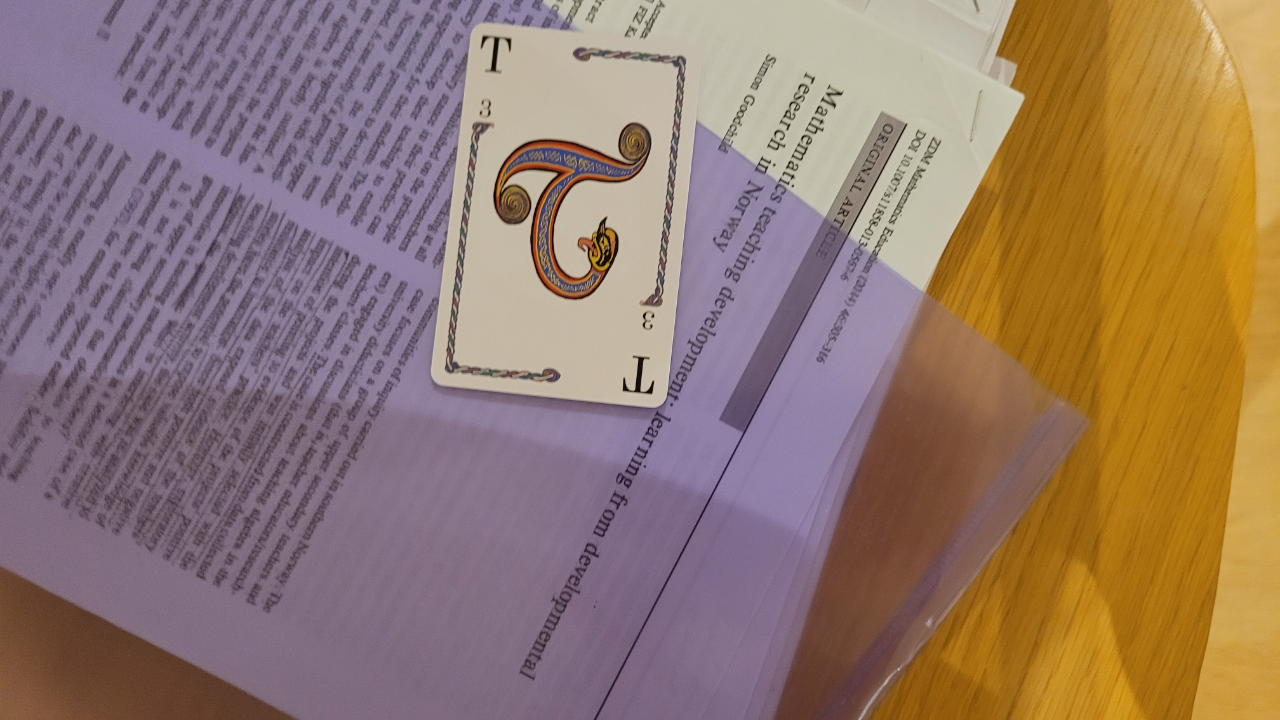quiddler_card: (424, 13, 717, 433)
